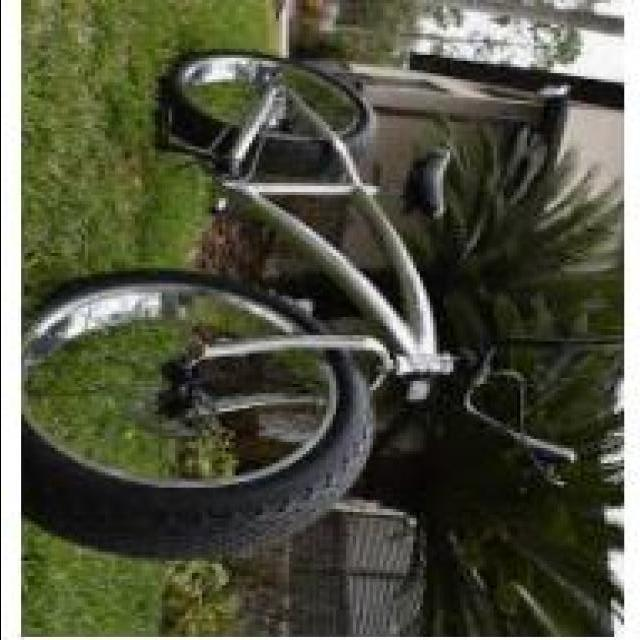bicycle: (21, 47, 551, 559)
